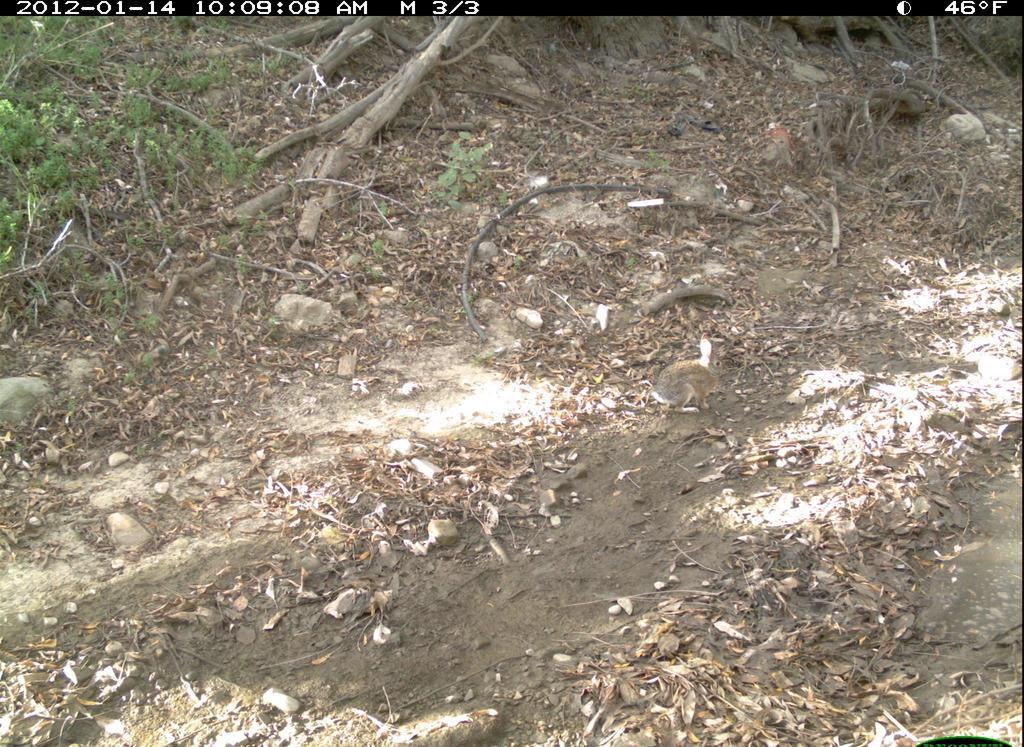rabbit: (642, 321, 742, 423)
